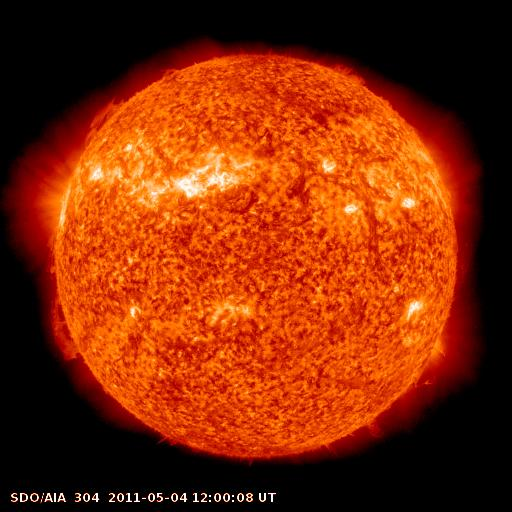prominence: (35, 292, 92, 370), (75, 94, 133, 153), (318, 53, 377, 98), (35, 236, 76, 278), (355, 405, 392, 451), (404, 365, 447, 392), (155, 60, 186, 87)
